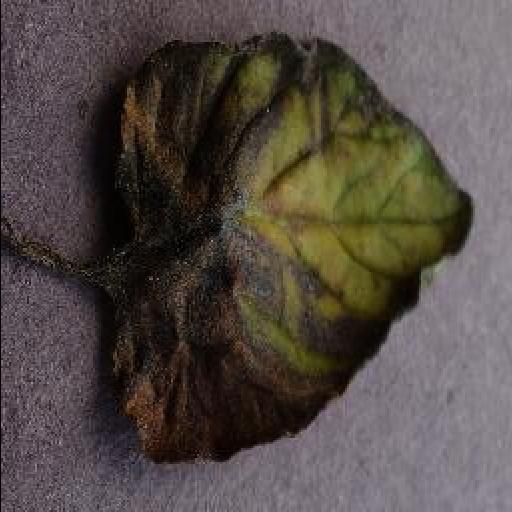disease_tomato: (104, 33, 474, 467)
